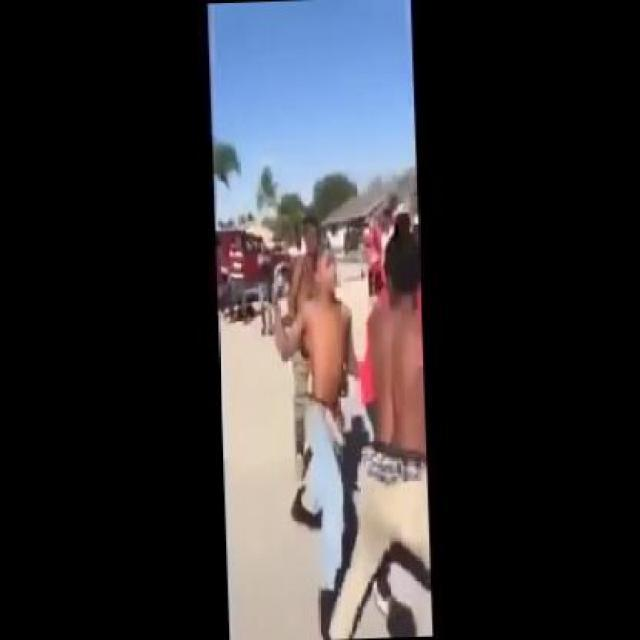fight: (267, 242, 424, 444)
